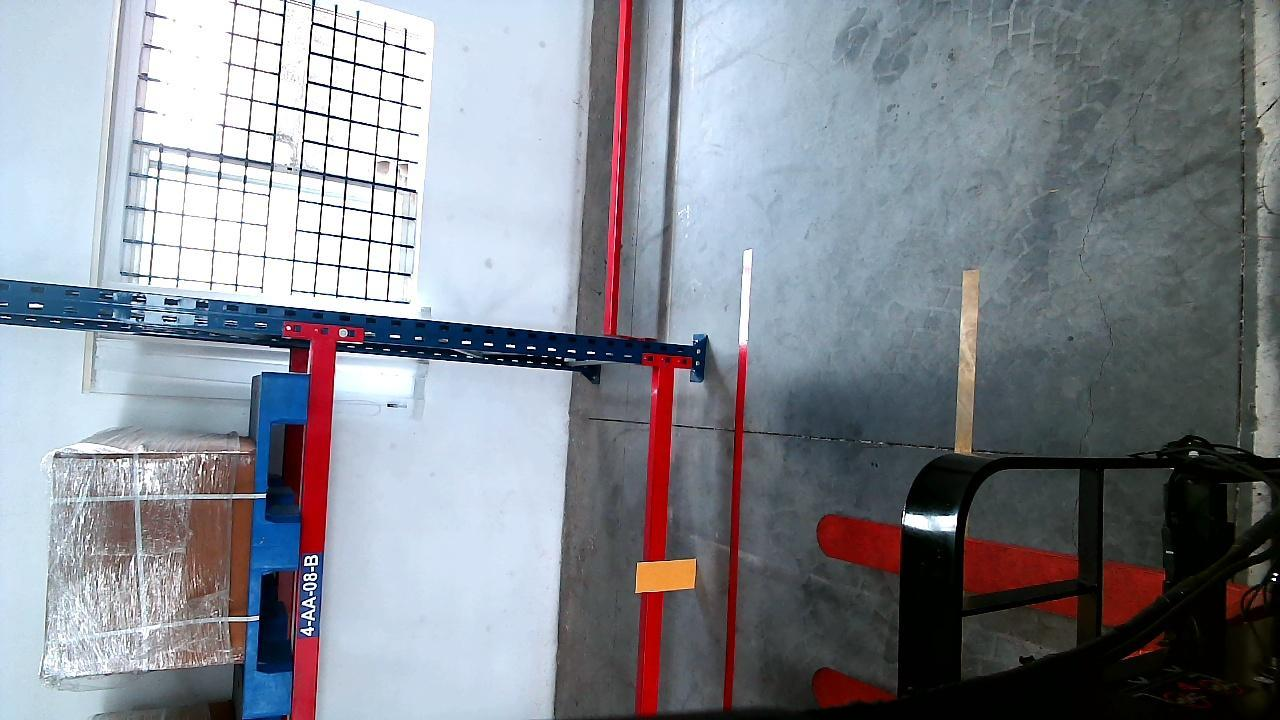red_line: (721, 249, 754, 712)
yellow_line: (953, 263, 977, 452)
